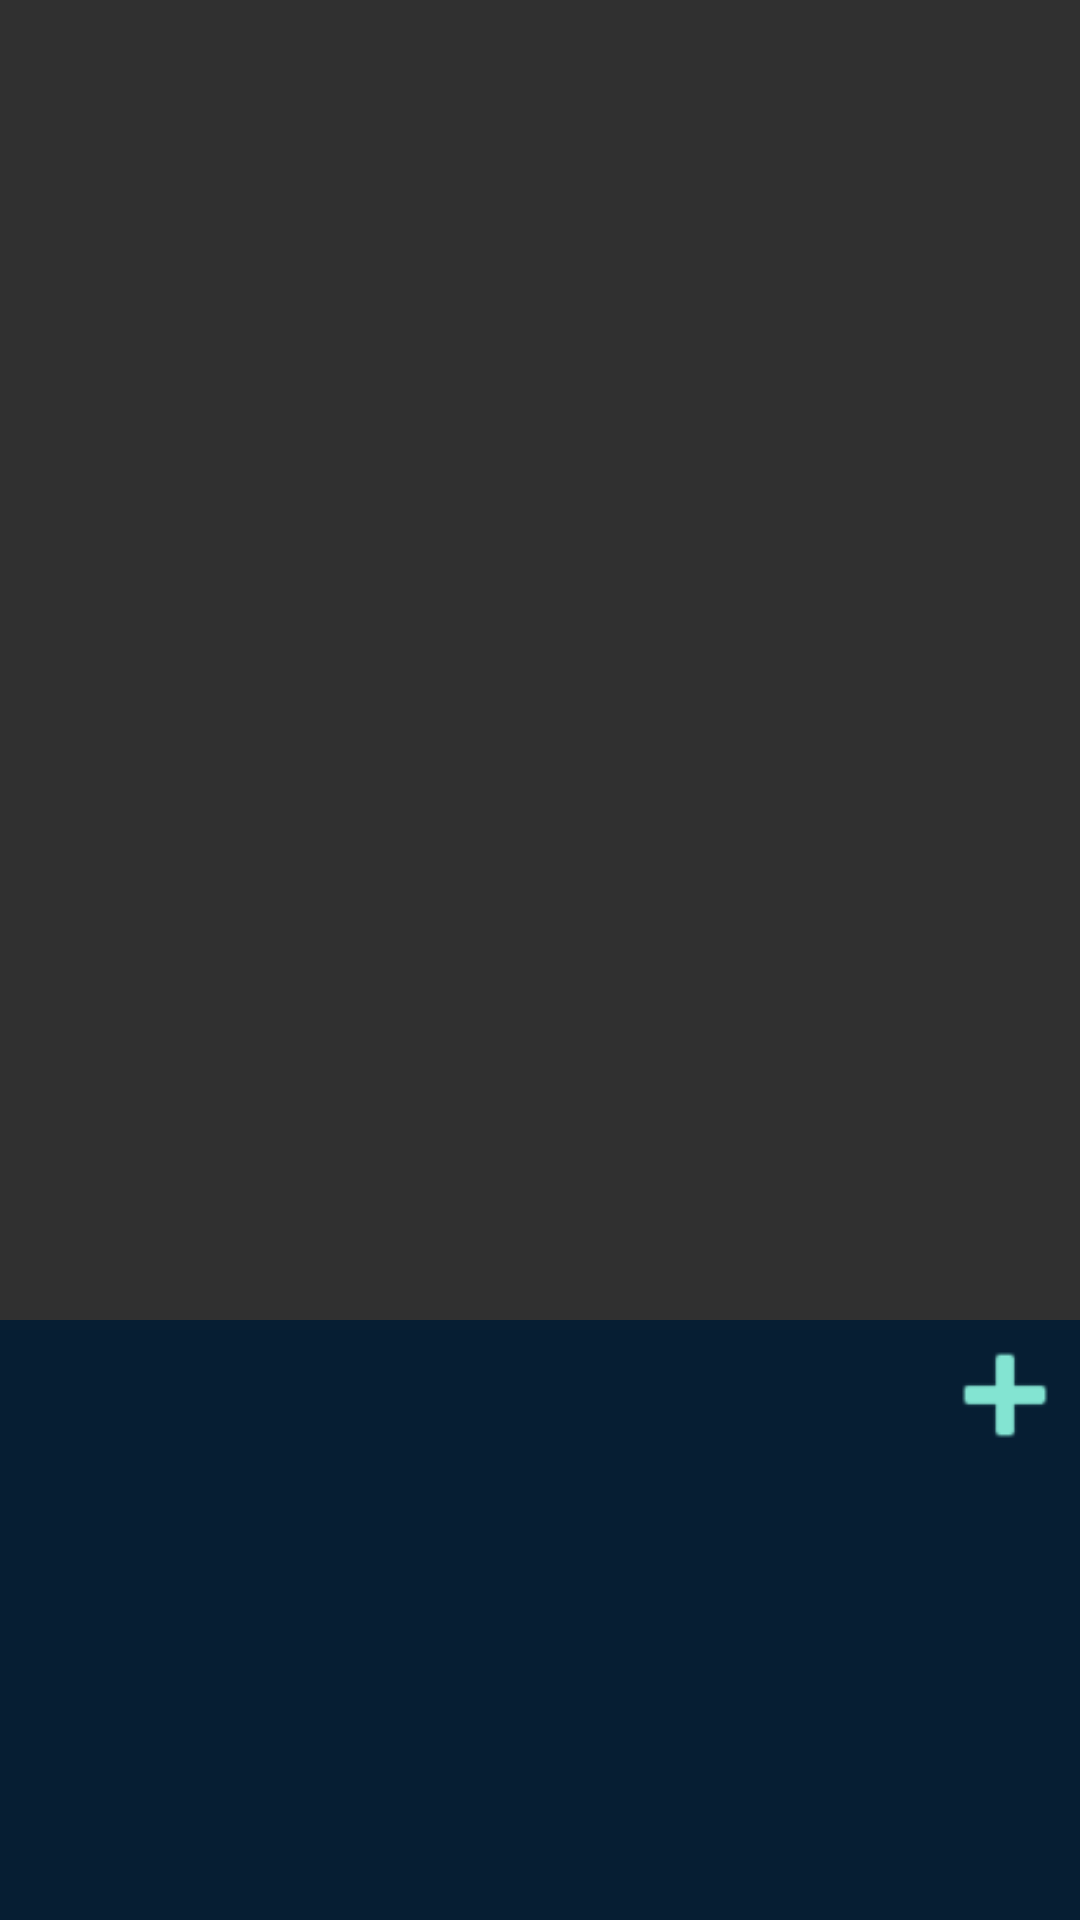

Screen size 1080px×1920px. Icon name, then its center in pixels as point (x, y):
add: point (1005, 1395)
